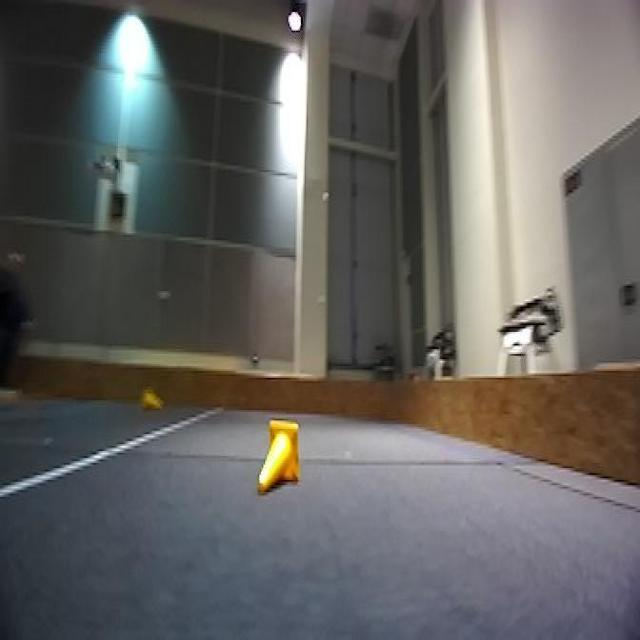frc_cone: (255, 415, 302, 497), (137, 383, 166, 414)
